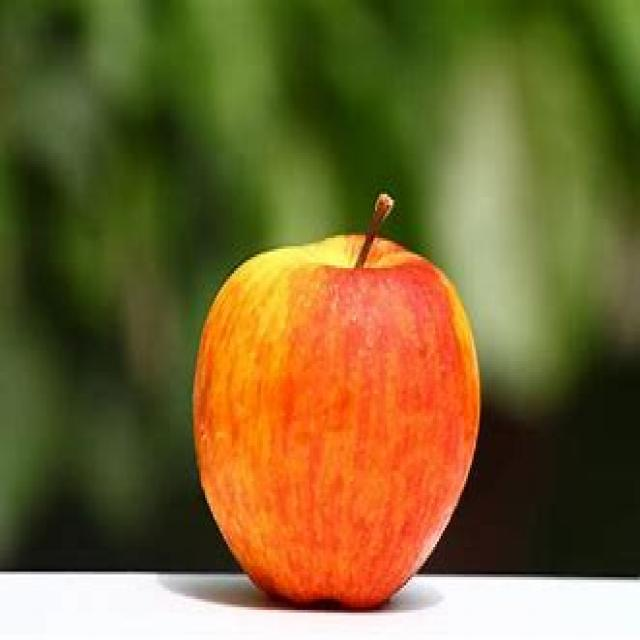Apple: (190, 188, 483, 612)
